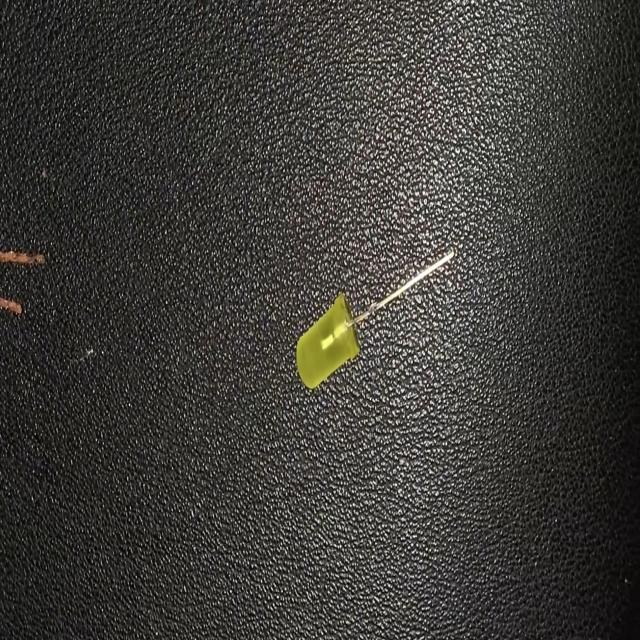missing-leg: (294, 243, 456, 394)
rust: (1, 245, 45, 271), (0, 293, 22, 319)
